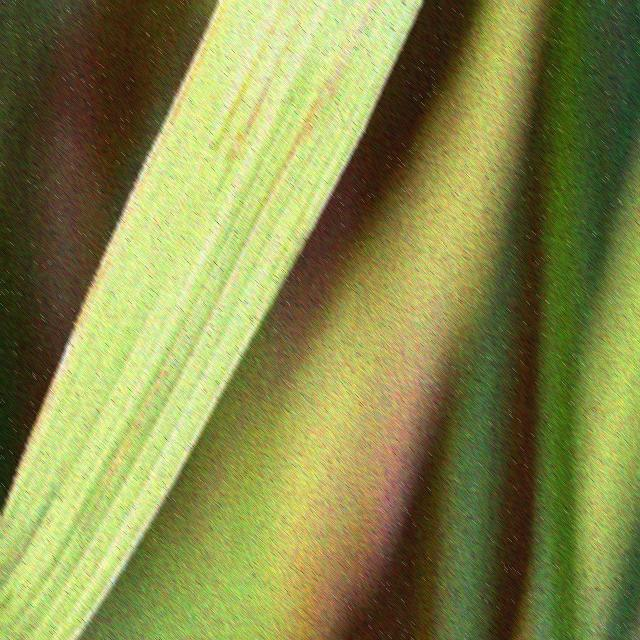BLS: (6, 0, 228, 505), (240, 0, 382, 243), (94, 296, 201, 508), (225, 0, 311, 164), (211, 0, 284, 151)
